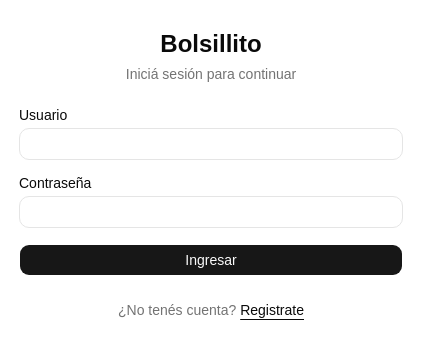
Test case: LoginPage › shows an error message on invalid credentials
This screenshot has width=423, height=355.
Type "ana" into the field labelled "Usuario" at (211,144), box [19,128,403,160]
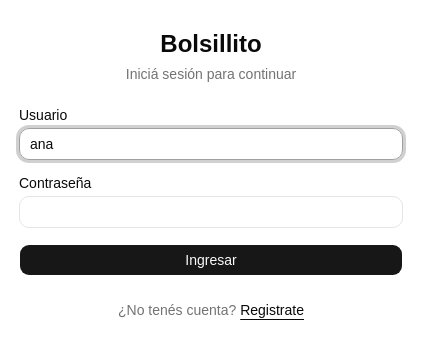
Type "wrongpass" into the password field labelled "Contraseña" at (211,212), box [19,196,403,228]
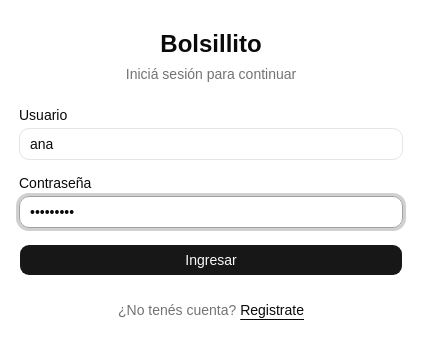
Click the button "Ingresar" at (211,260), box [19,244,403,276]
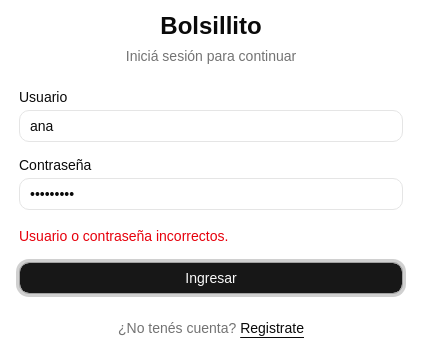
Now the text "Usuario o contraseña incorrectos." is shown, box [19,228,228,244]
